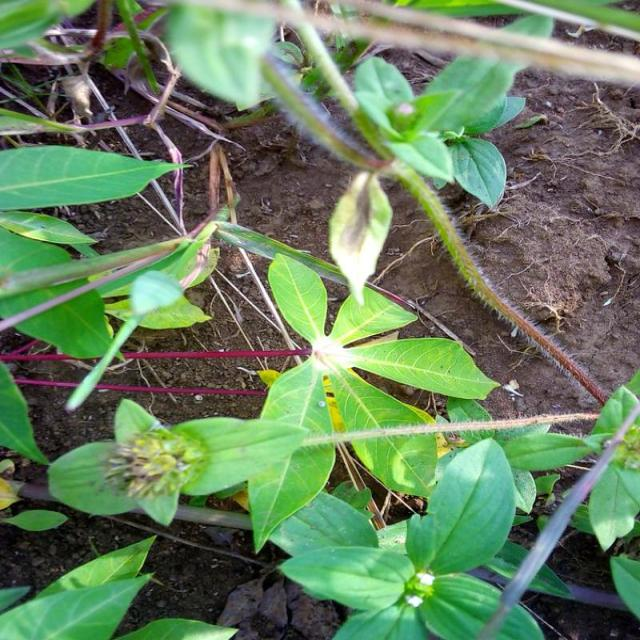cassava leaf: (47, 396, 310, 527), (1, 143, 188, 211)
